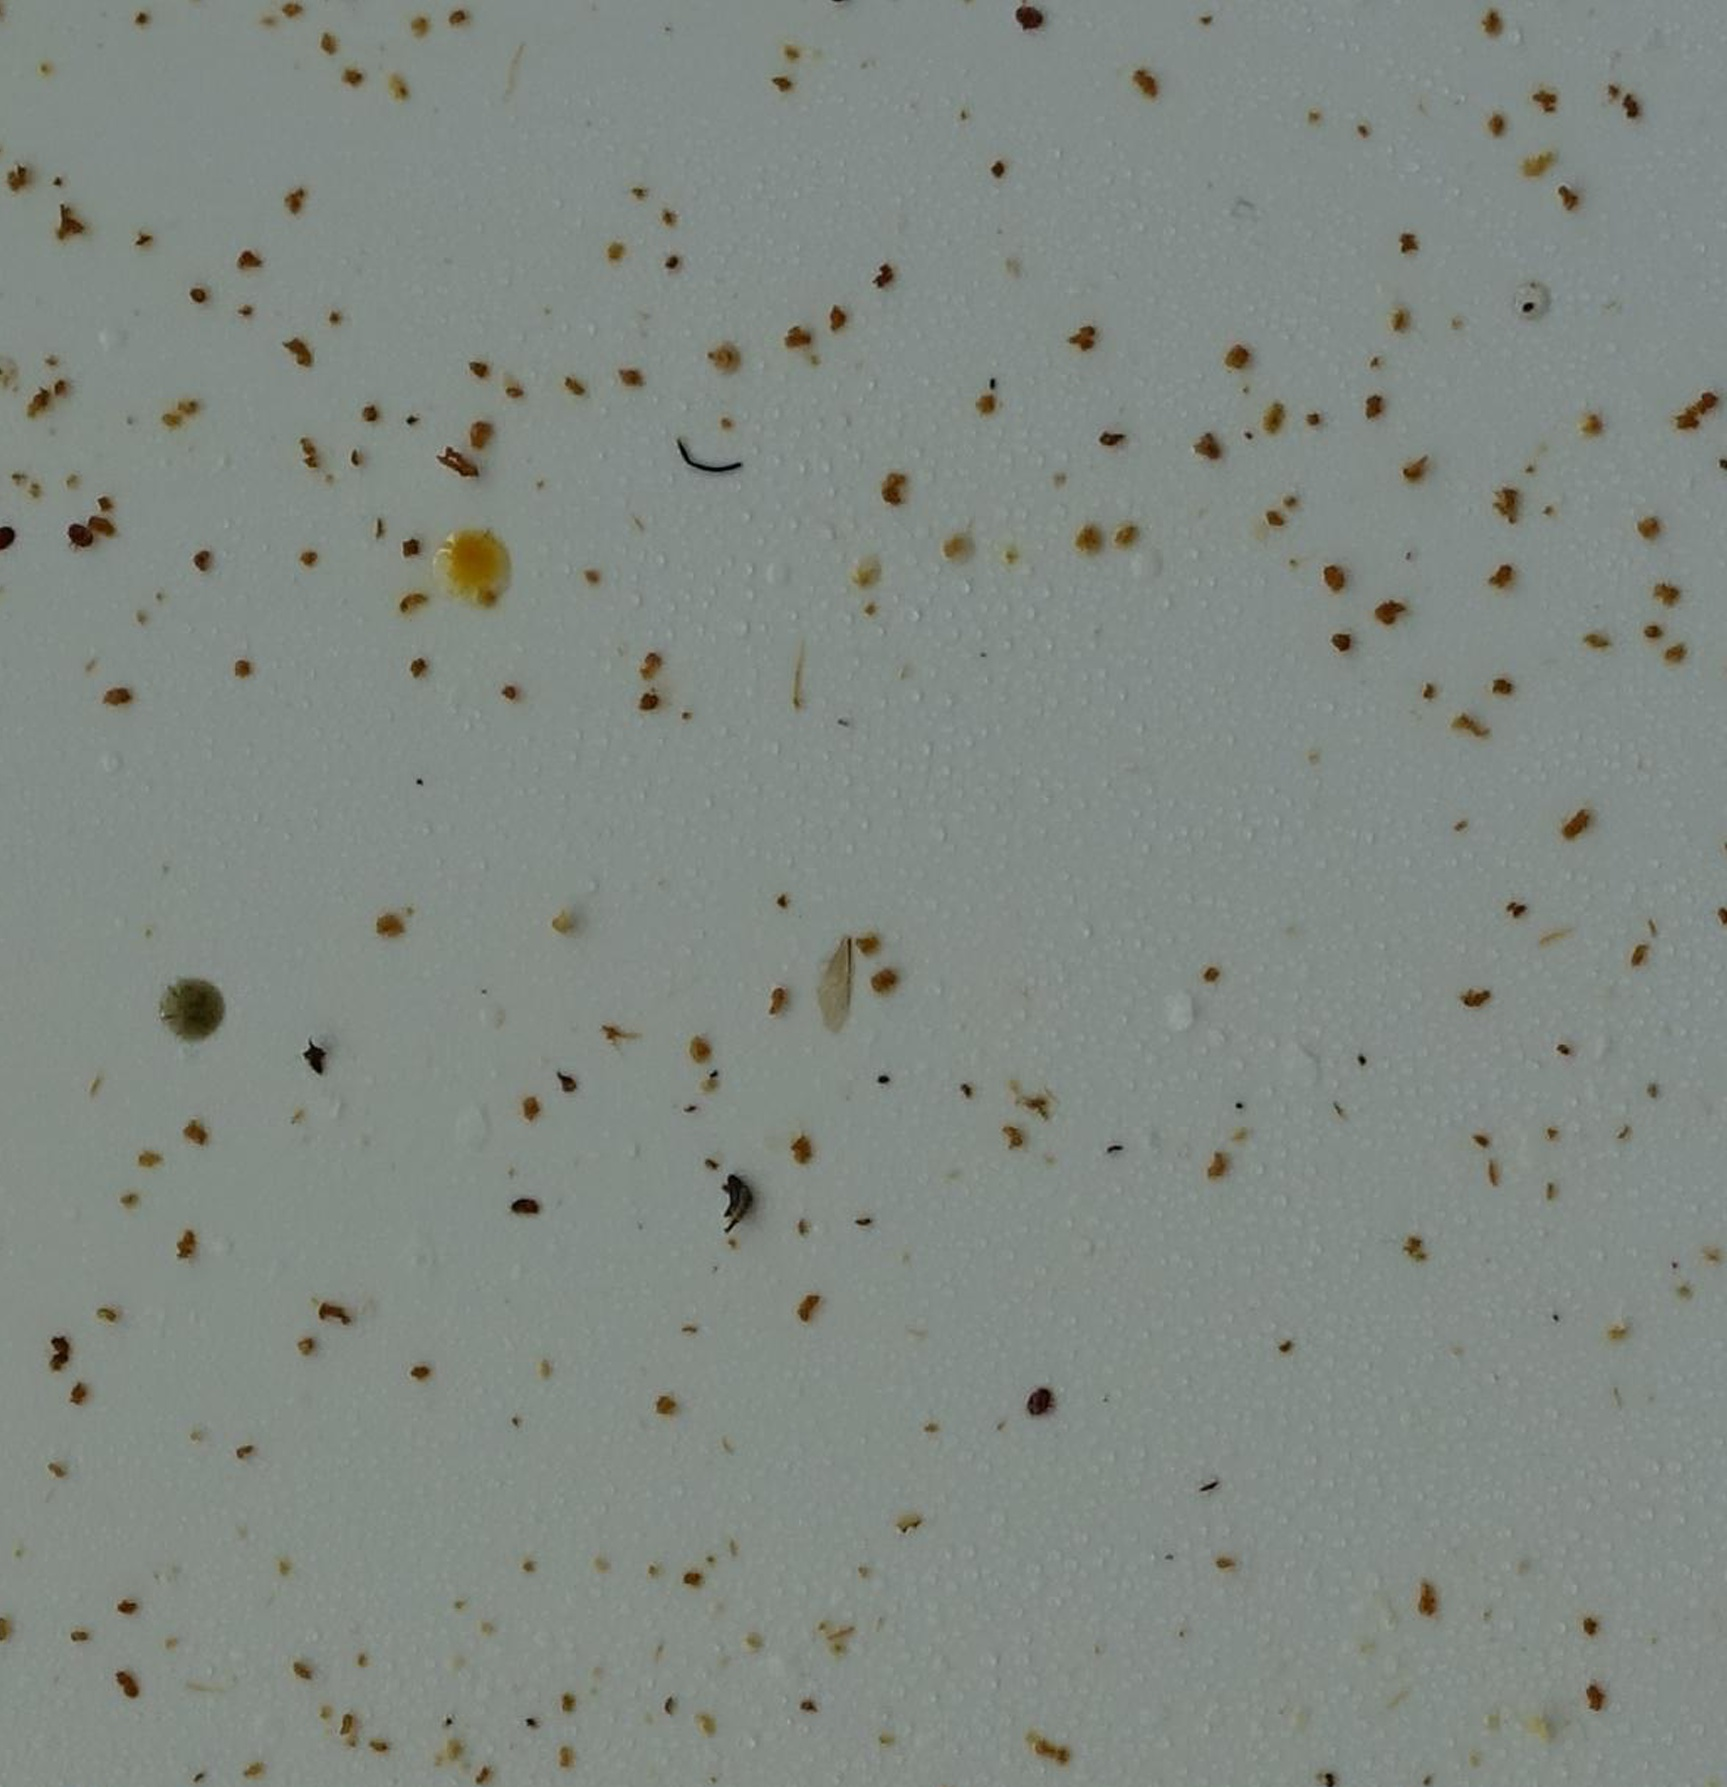Varroa: (1018, 1380, 1060, 1417), (1014, 2, 1042, 30), (69, 517, 96, 547)
